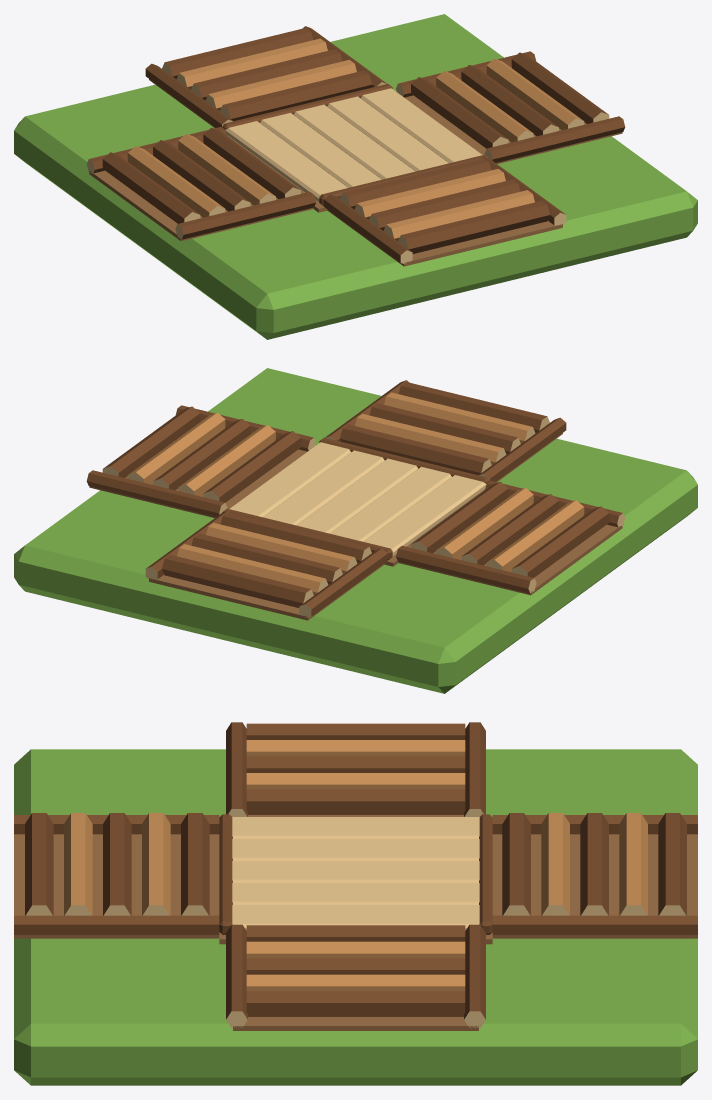
File: road_l2.fbx
3 views of the same model, one above another, from view 1: azimuth 30°, elevation 25°; view 2: azimuth 150°, elevation 25°; view 3: azimuth 270°, elevation 25° (orthographic). The views are drawn at different scales.
Visible parts, largest first — view 1: road_l2, Road_YPlus, Road_XPlus, Road_XMinus, Road_YMinus; view 2: road_l2, Road_YMinus, Road_XPlus, Road_XMinus, Road_YPlus; view 3: road_l2, Road_XMinus, Road_YMinus, Road_YPlus, Road_XPlus.
Boxes of the visible parts, x1,y1,x2,y2 form: road_l2: (14,14,697,339); Road_YPlus: (324,157,566,266); Road_XPlus: (86,127,315,241); Road_XMinus: (396,51,625,163); Road_YMinus: (145,26,386,127); road_l2: (14,368,697,693); Road_YMinus: (145,511,387,620); Road_XPlus: (396,481,625,595); Road_XMinus: (86,405,315,517); Road_YPlus: (325,380,566,481); road_l2: (14,749,697,1085); Road_XMinus: (226,924,485,1030); Road_YMinus: (492,813,697,938); Road_YPlus: (14,813,219,938); Road_XPlus: (226,722,485,816).
Size of the model in its own units: 1 by 0.147 by 1.
